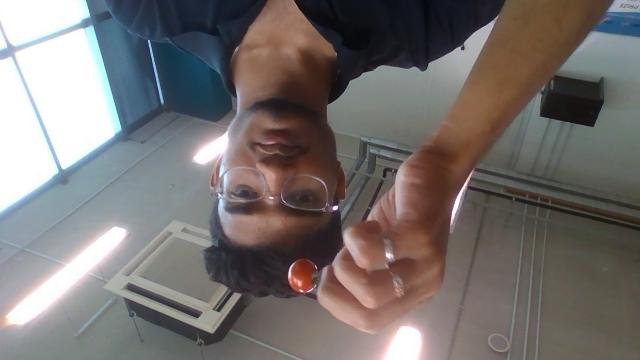Fully Grown: (287, 257, 319, 295), (288, 258, 320, 294)
